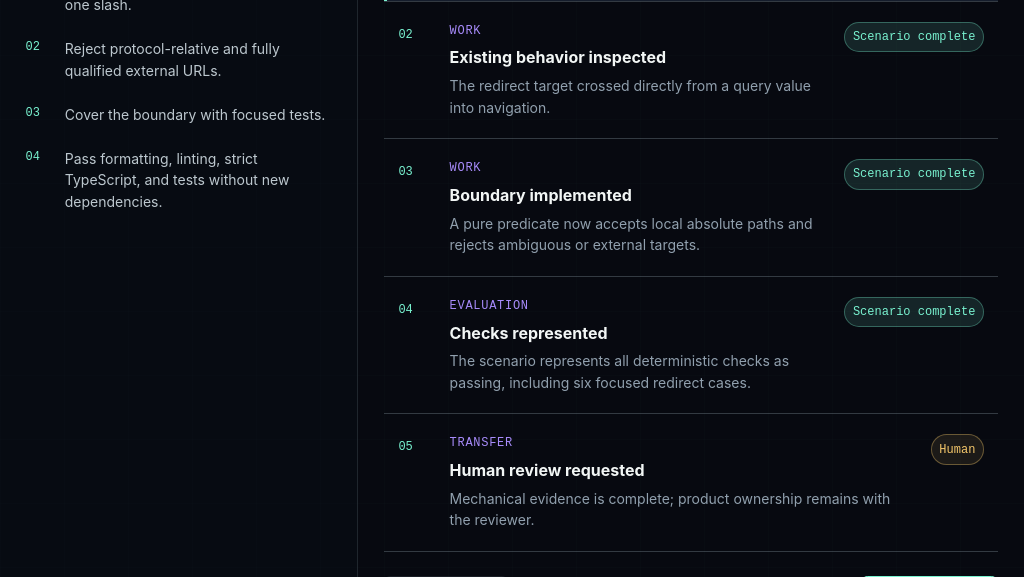
Test case: RunExplorer › labels the original reference scenario and exposes its claims
(page scrolled)
Click the button "Boundary implemented". click: (465, 168)
box: [384,139,998,276]
(page scrolled)
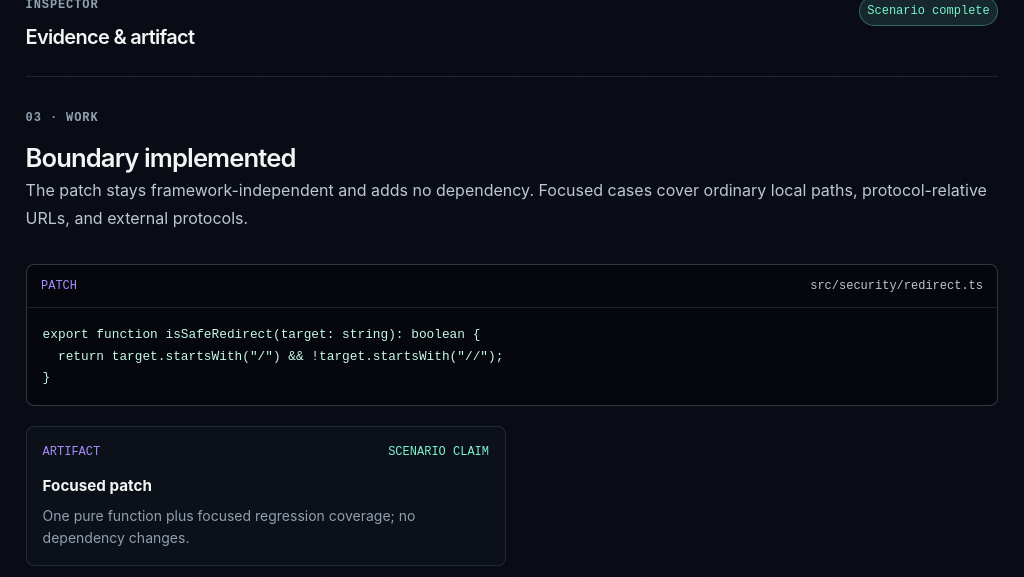
Check: the text "src/security/redirect.ts" is shown, box [810,279,983,293]
Check: the text "target.startsWith" is shown, box [43,327,503,385]
